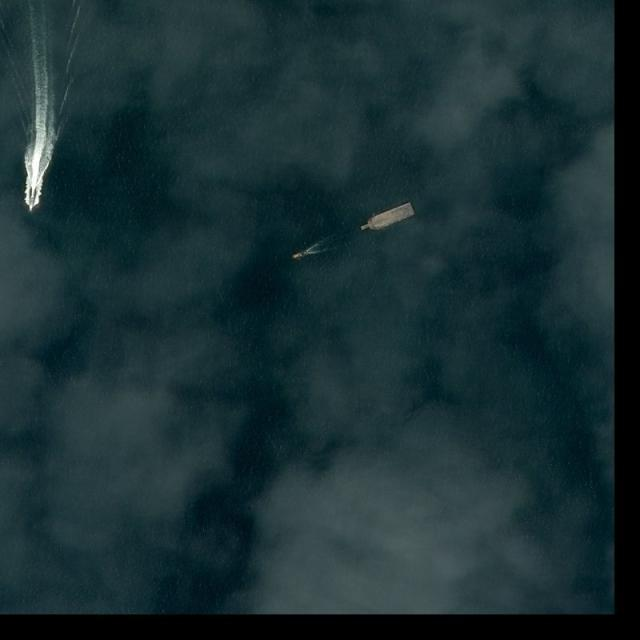ship: (358, 202, 416, 236), (29, 198, 35, 212), (291, 252, 302, 259)
